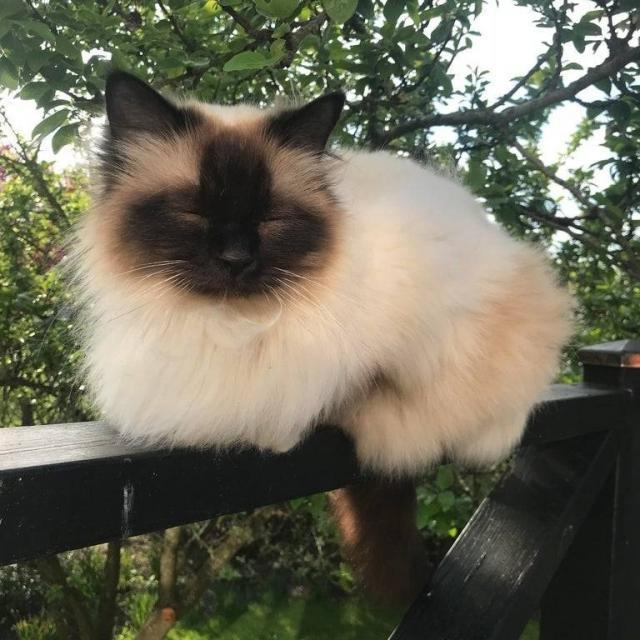da khoe manh: (94, 170, 530, 420)
